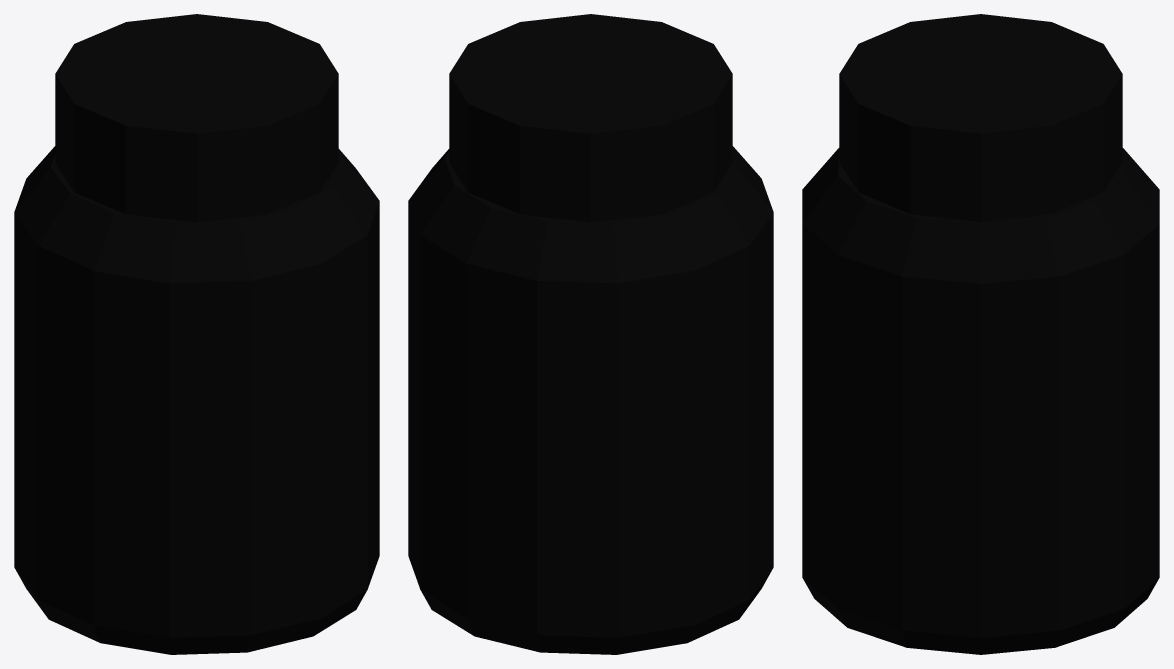
File: jar_beans.fbx
The picture shows the model from 3 angles, left to right: view 1: azimuth 30°, elevation 25°; view 2: azimuth 150°, elevation 25°; view 3: azimuth 270°, elevation 25°; orthographic projection.
Parts seen in each view (by area): view 1: jar_beans; view 2: jar_beans; view 3: jar_beans.
Boxes of the visible parts, left/top/right/bottom form: jar_beans: left=14, top=14, right=379, bottom=654; jar_beans: left=408, top=14, right=773, bottom=654; jar_beans: left=802, top=14, right=1159, bottom=654.
Bounding box in the file's own units: 0.15 × 0.23 × 0.1462.
Materials: 1 (1 with a texture image).
